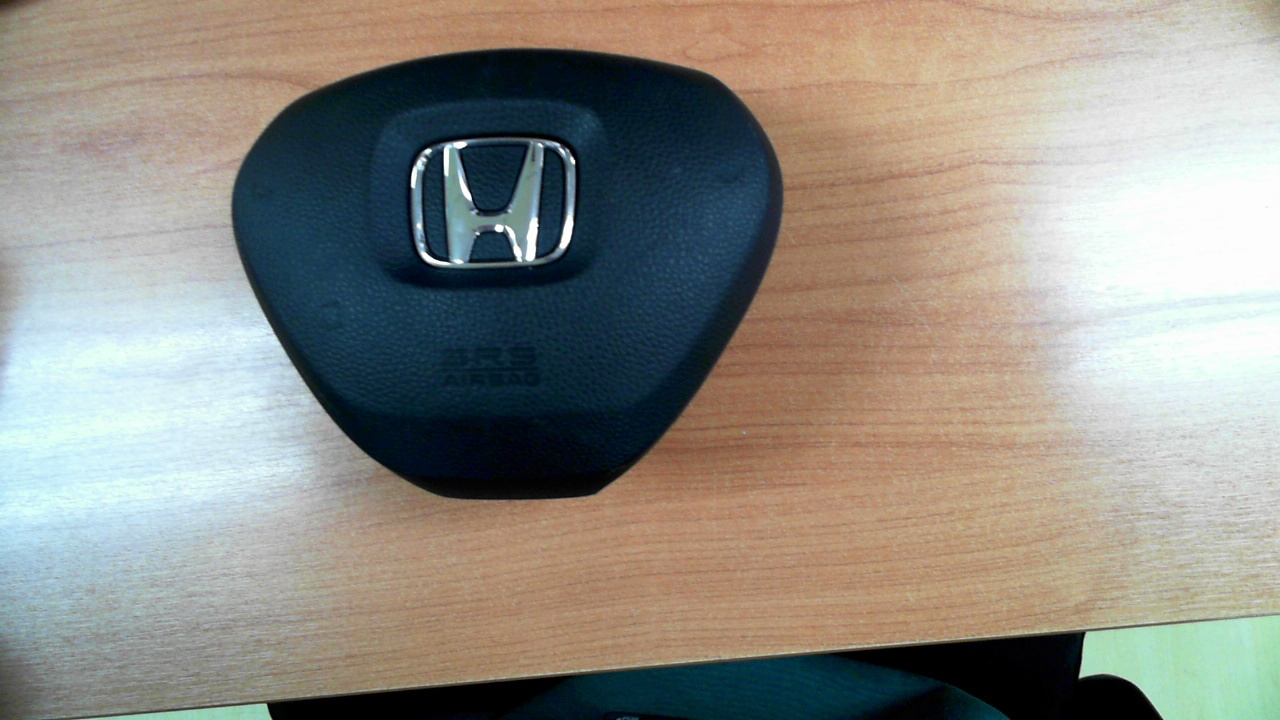Airbag: (231, 47, 785, 502)
Honda: (409, 136, 577, 269)
